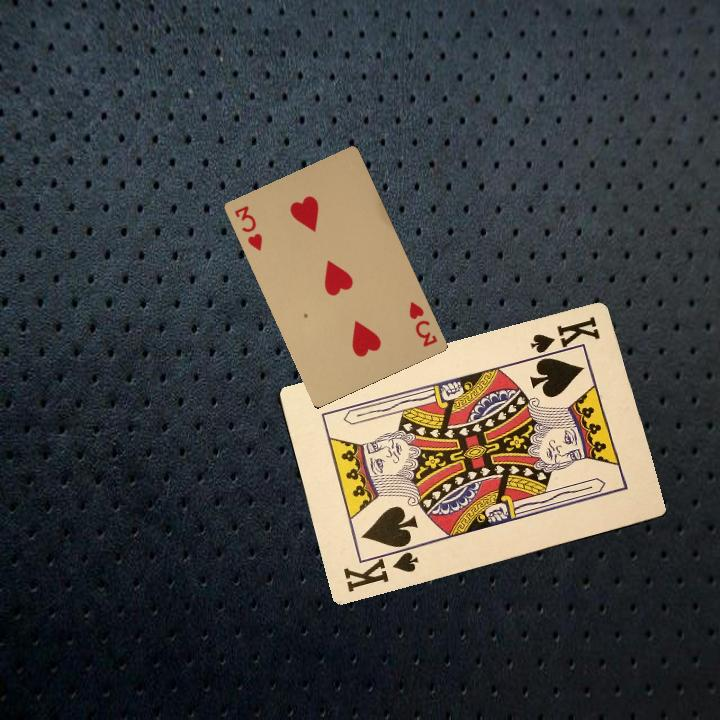3h: (405, 297, 440, 350), (230, 202, 265, 254)
Ks: (339, 542, 419, 595), (526, 312, 603, 363)
